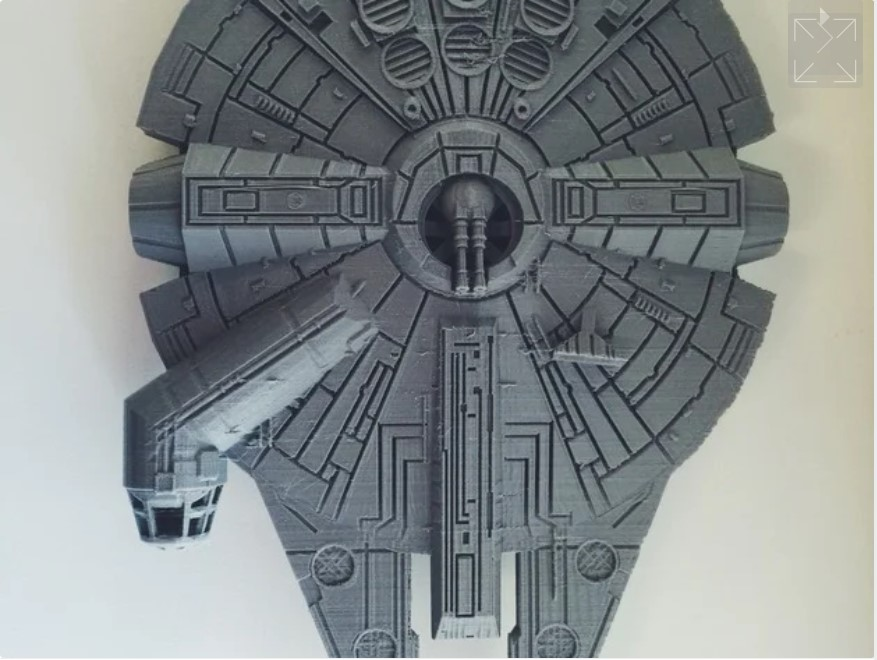Good: (102, 1, 801, 660)
